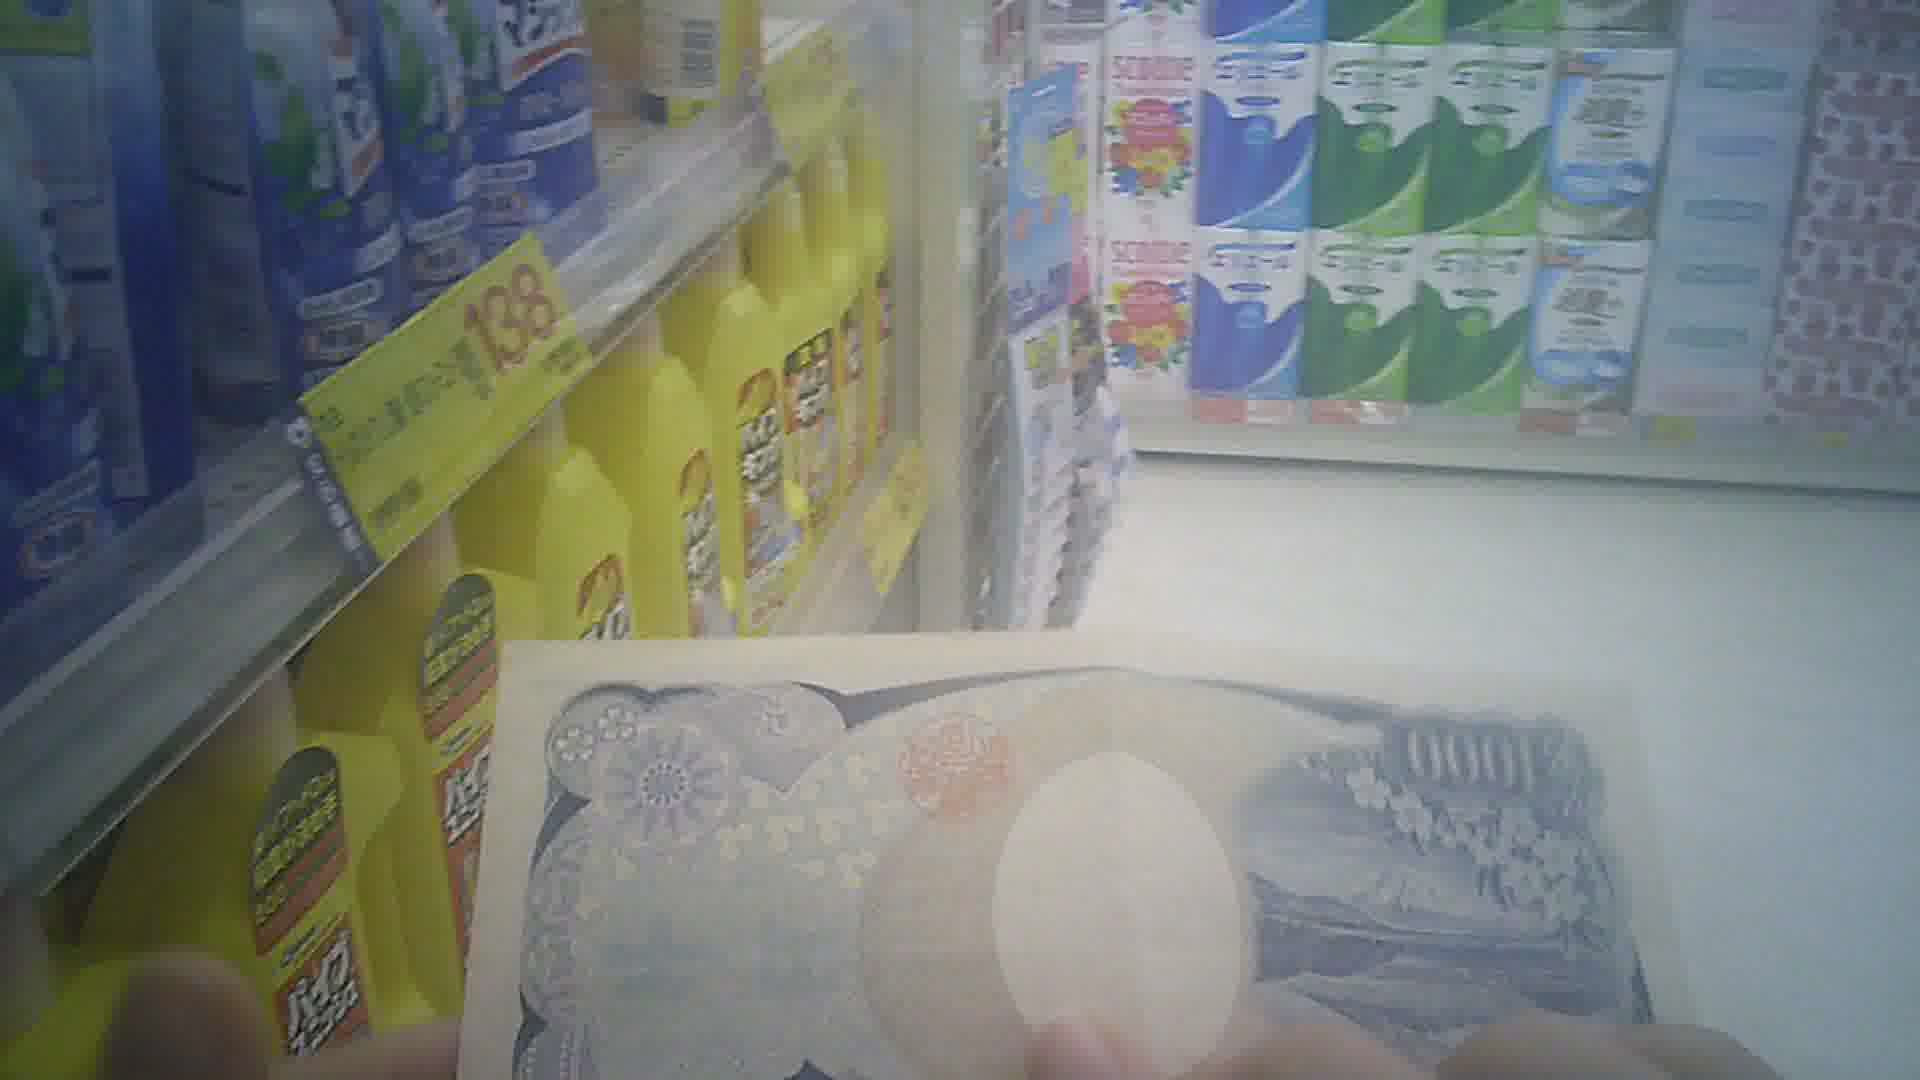1,000 Yen: (473, 608, 1669, 1079)
